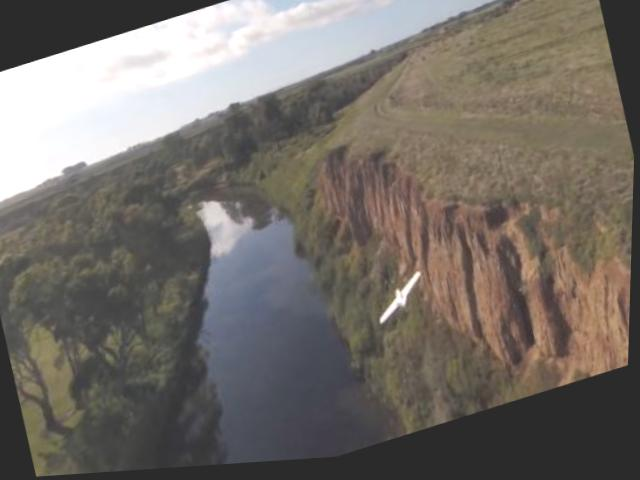uav: (368, 276, 435, 334)
